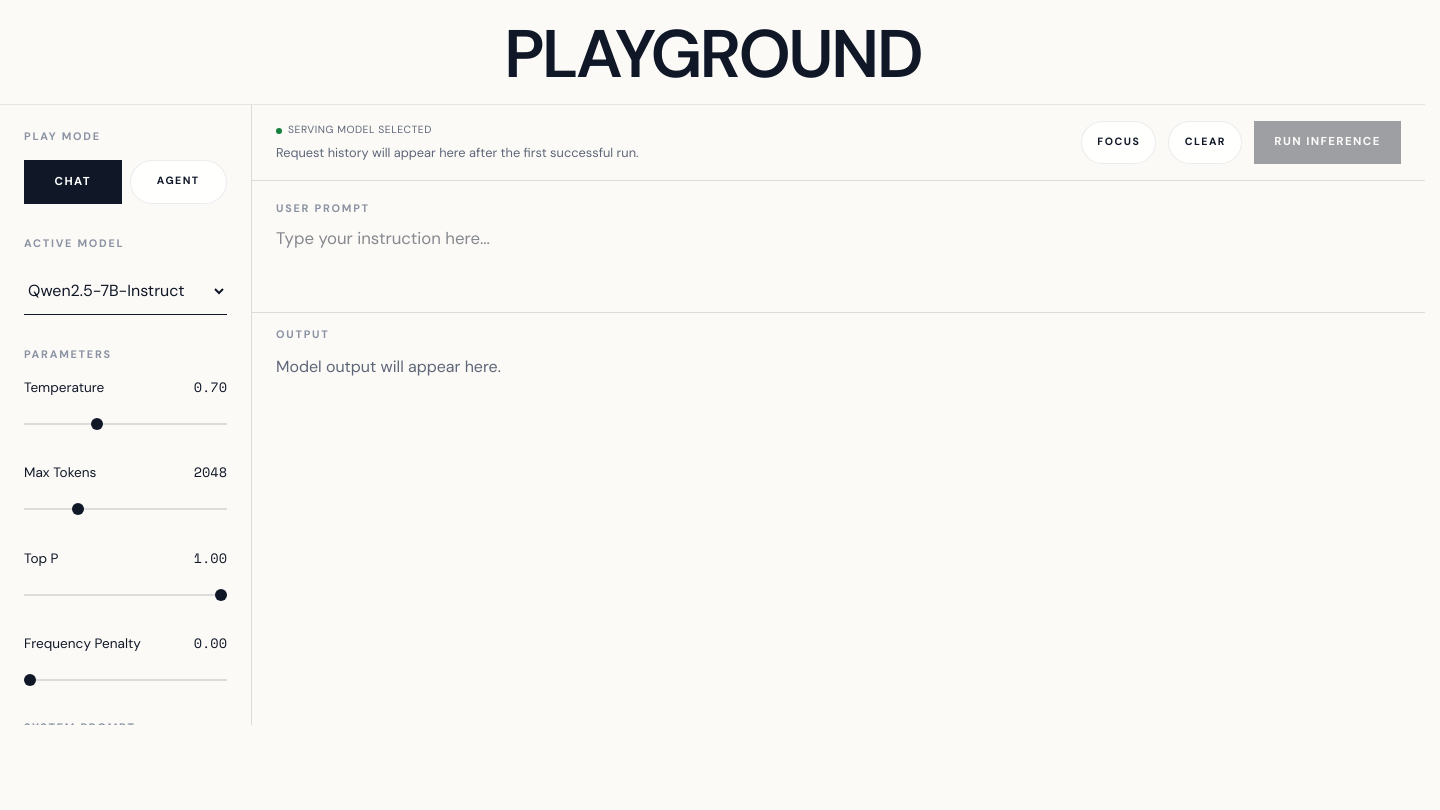
it: Playground agent mode › filters the visible tool list by selected agent mode
Step 1. Click the button "AGENT" → (178, 182), box [130,160,227,204]
(page scrolled)
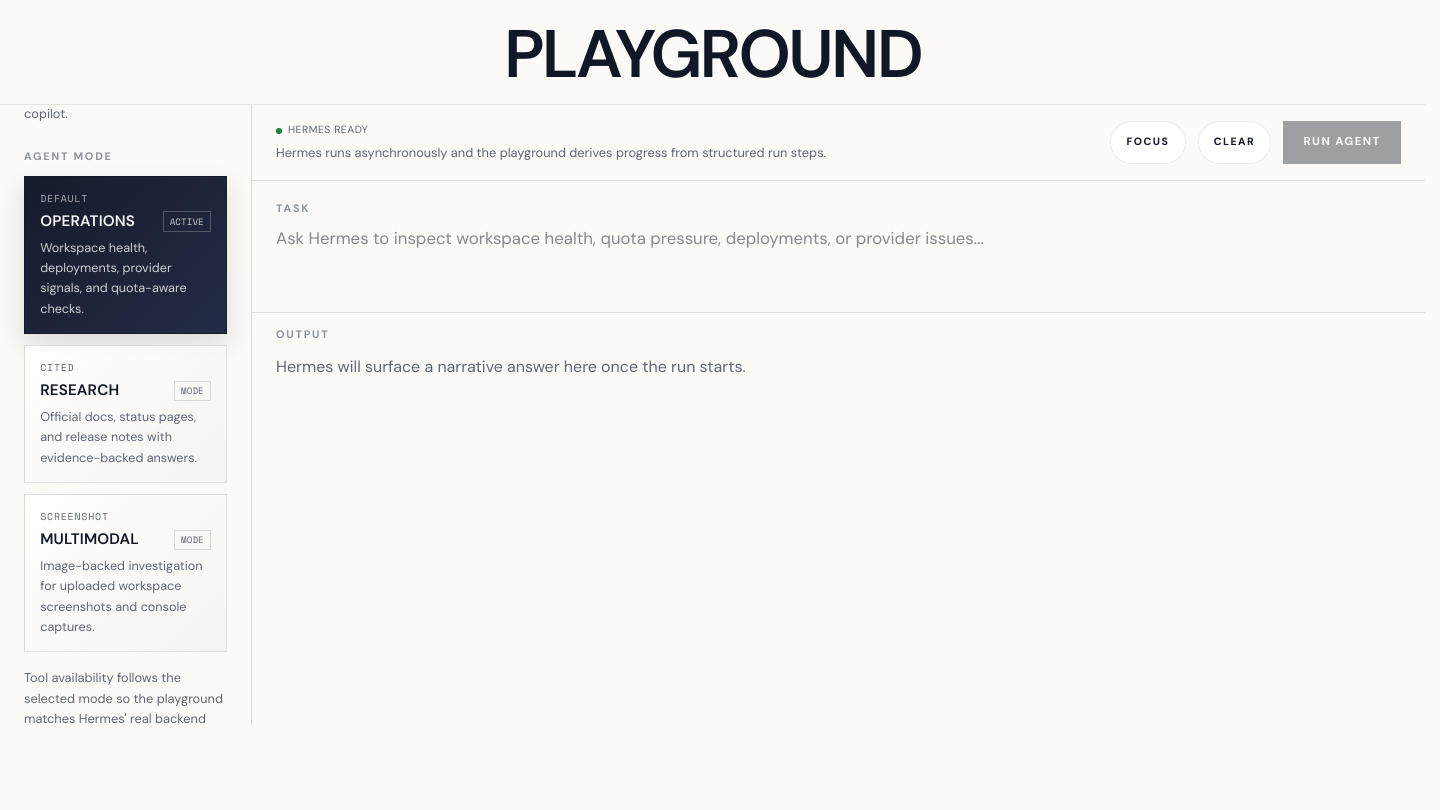
Expected: the text "vision_analyze" is not shown
Step 2. Click the button "RESEARCH" → (126, 414), box [24,345,227,483]
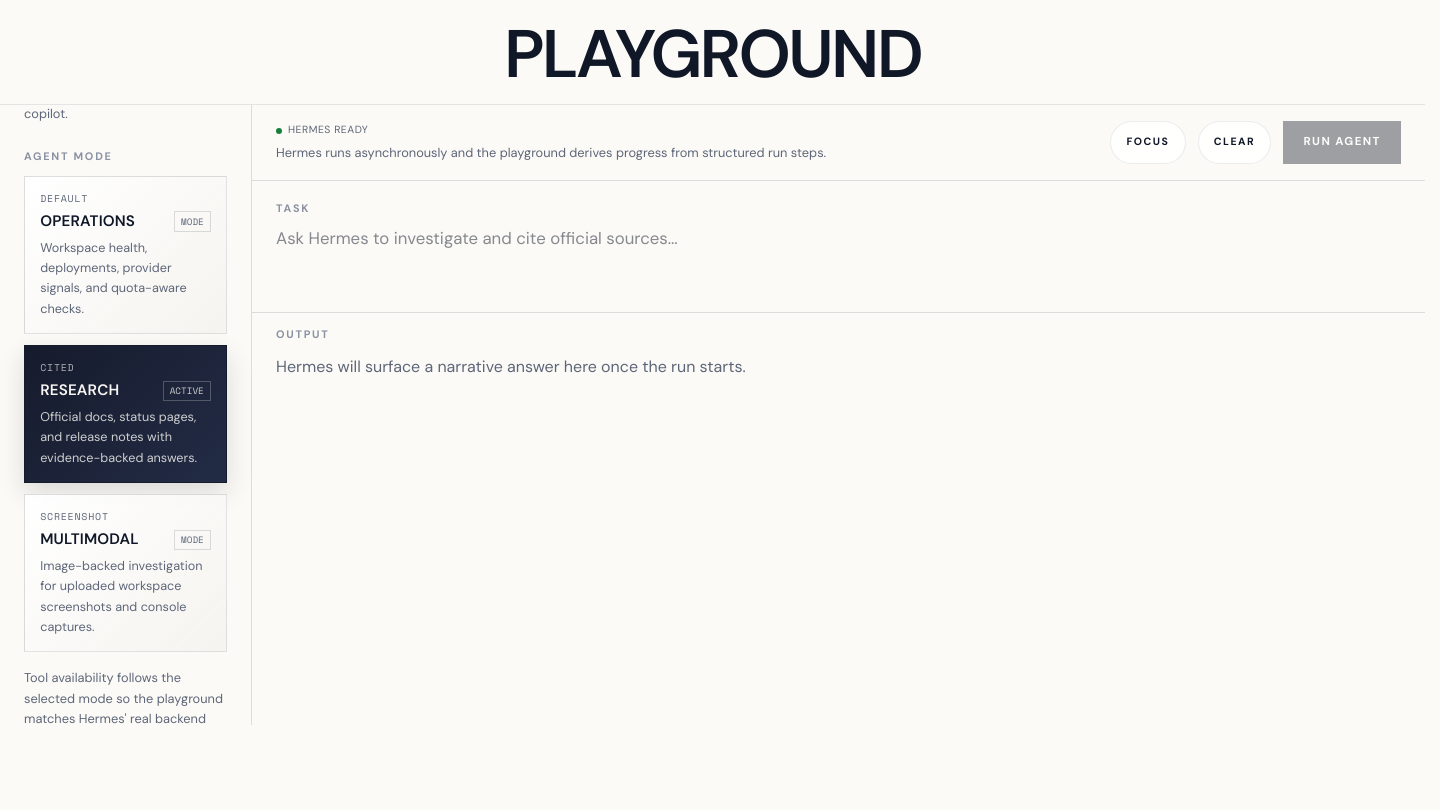
Step 3. Click the button "MULTIMODAL" → (126, 573), box [24,494,227,652]
(page scrolled)
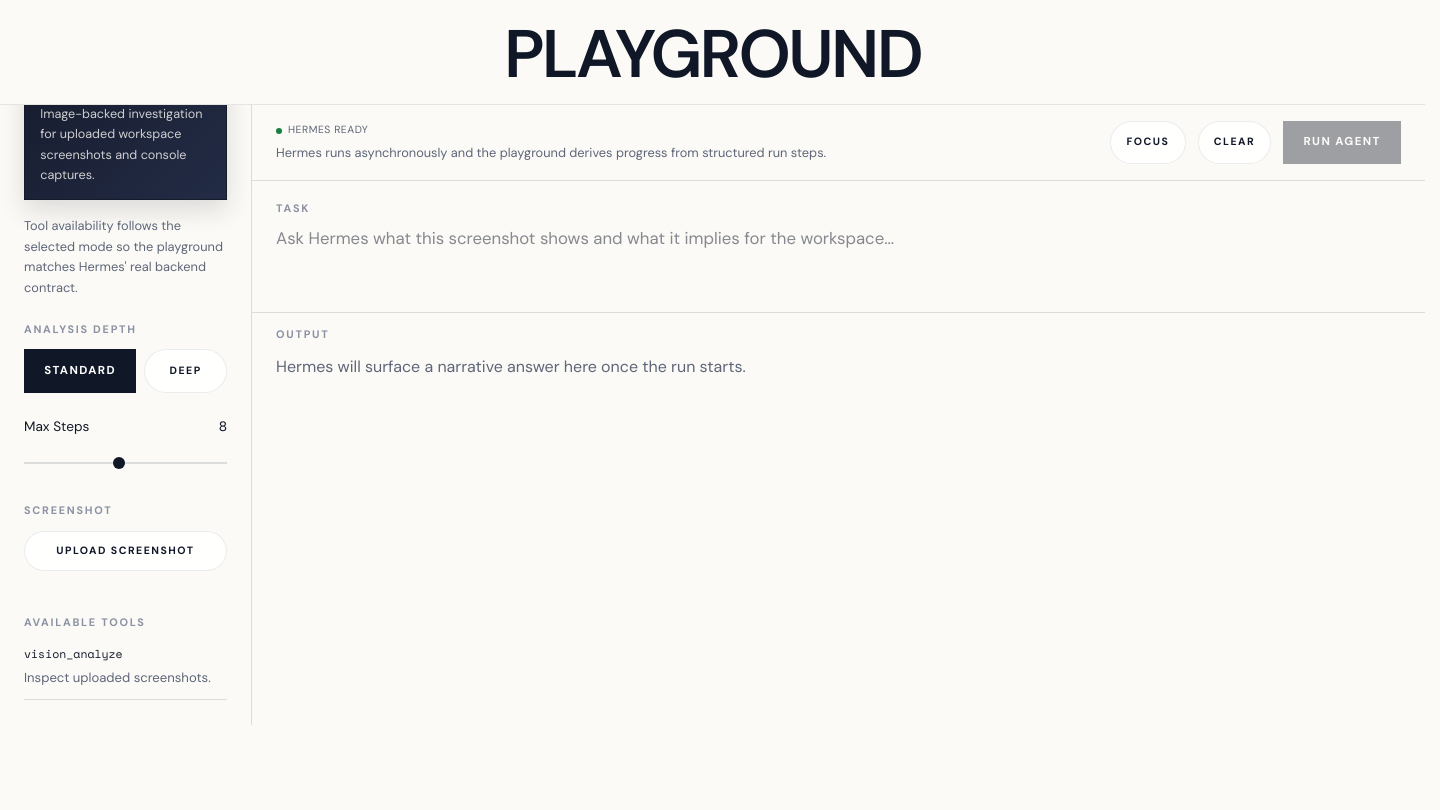
Expected: the text "vision_analyze" is shown, [24,645,123,662]
